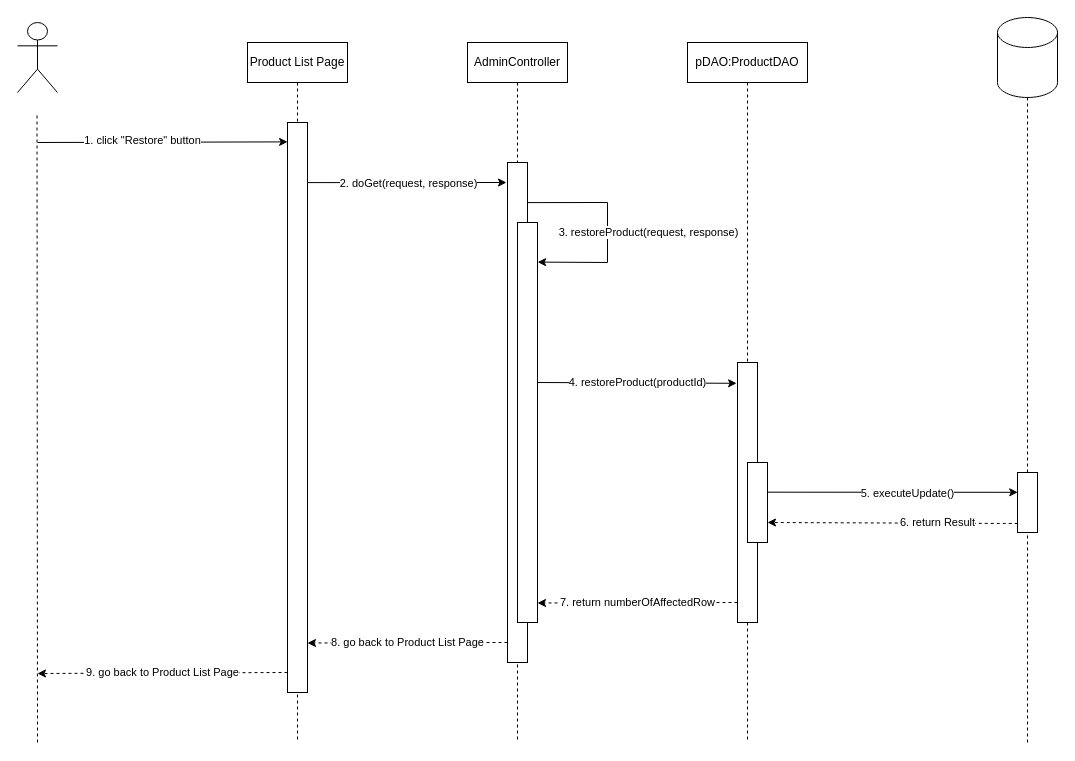
Image size: 1075x761. Some labels were removed from this diagram. Each missing label, with the centre of its shape:
"Admin" goes at pixel 37 57.
"Database" goes at pixel 1027 57.
